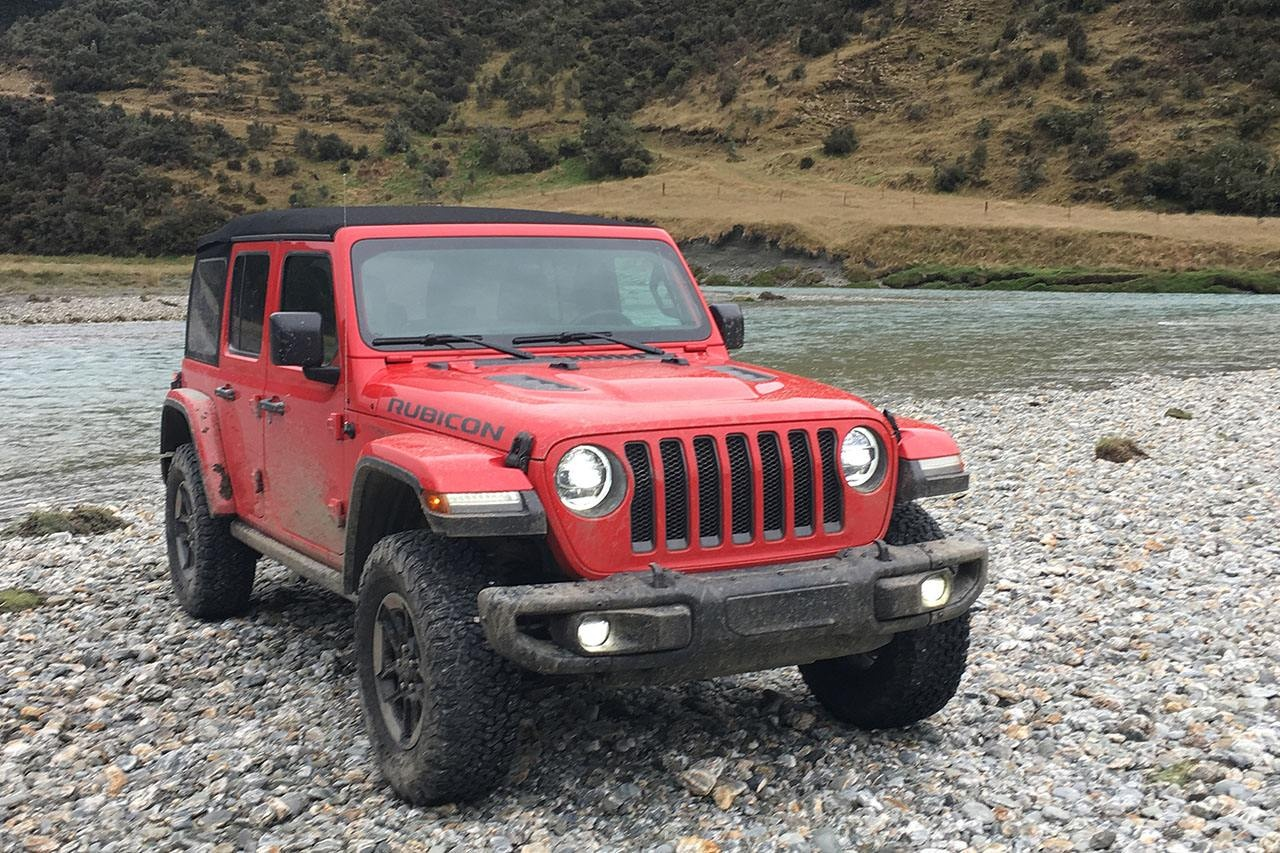jeep: (132, 174, 1004, 802)
